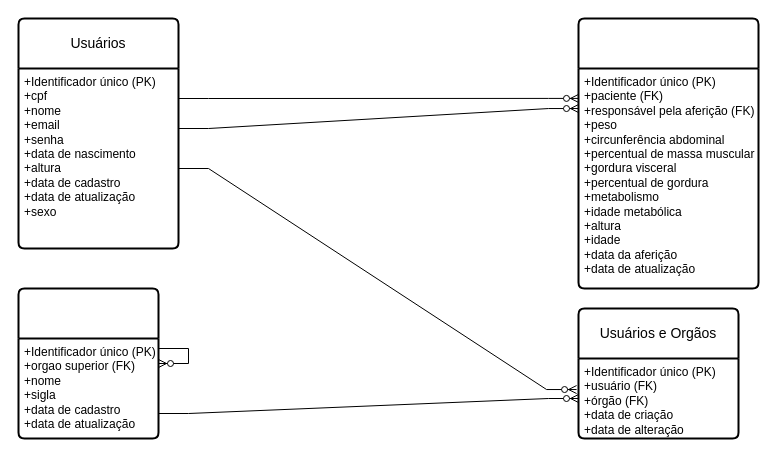
This 776x456 diagram has some shape labels left out. The box of each missing label's shape, as (x1, y1, x2, y2) in pixels:
Aferições: (577, 17, 759, 289)
Órgãos: (17, 287, 159, 439)
